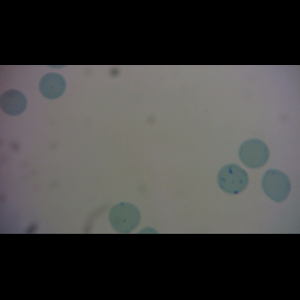aggregate reticulocyte: (217, 164, 249, 195)
erythrocyte: (238, 138, 272, 169), (38, 72, 67, 100), (1, 89, 28, 116)
punctate reticulocyte: (261, 168, 292, 204), (108, 201, 141, 233)
